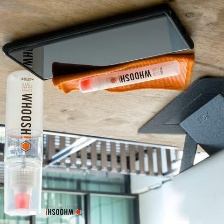cleaning_solution: (2, 67, 45, 219), (75, 57, 182, 96)
phone: (0, 0, 198, 86)
